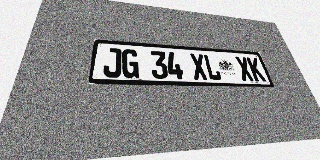3: (150, 51, 168, 79)
4: (166, 52, 184, 79)
G: (122, 49, 139, 78)
J: (103, 48, 122, 78)
K: (246, 57, 266, 81)
L: (203, 54, 222, 80)
X: (189, 53, 208, 80), (235, 56, 255, 81)
